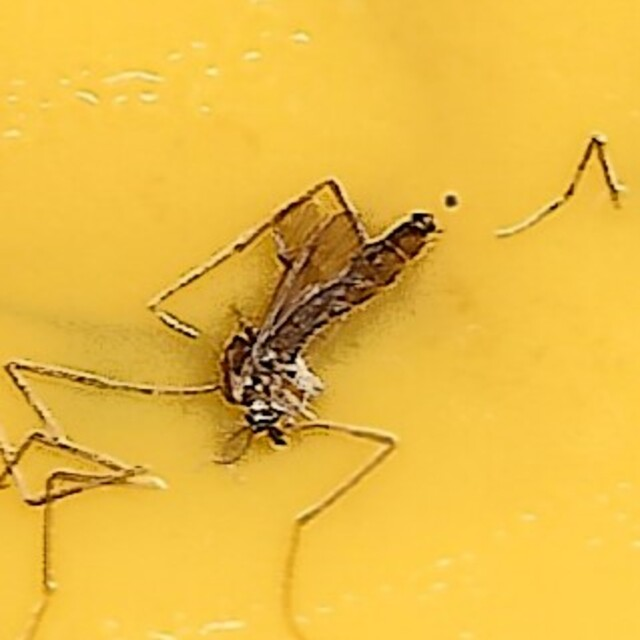Nematocera: (201, 179, 439, 461)
